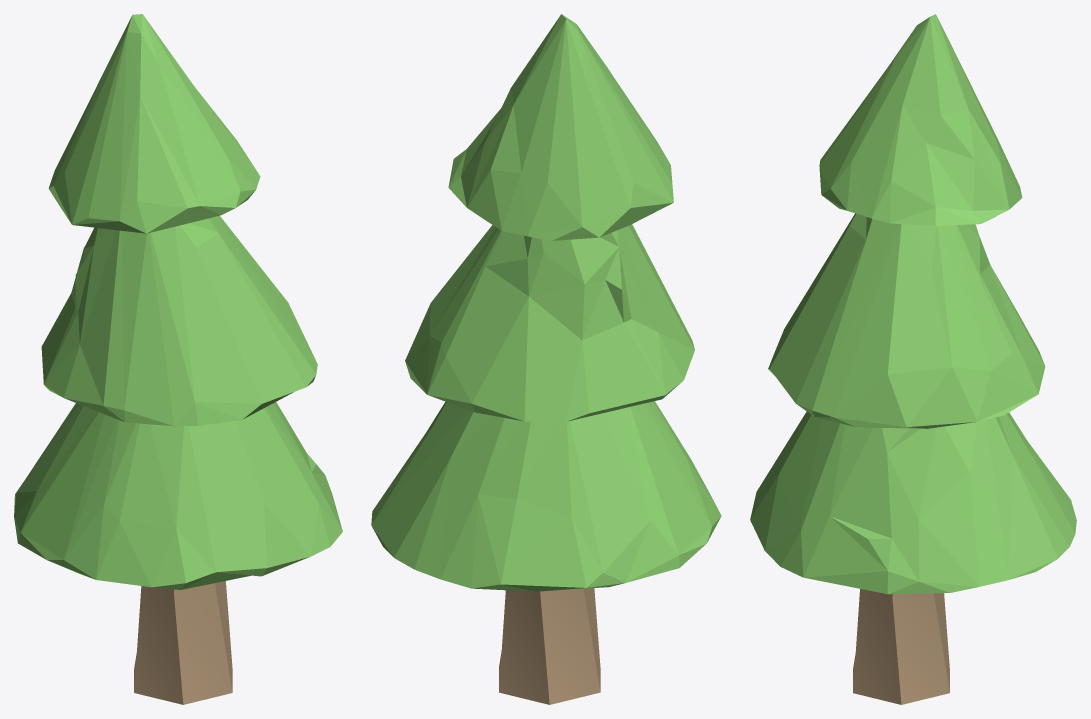
File: Tree.fbx
3 renders of one model, left to right at view 1: azimuth 30°, elevation 25°; view 2: azimuth 150°, elevation 25°; view 3: azimuth 270°, elevation 25°, orthographic. The views are drawn at different scales.
Visible parts, largest first — view 1: pCylinder12; view 2: pCylinder12; view 3: pCylinder12.
Boxes of the visible parts, x1=… form: pCylinder12: x1=14, y1=14, x2=342, y2=704; pCylinder12: x1=371, y1=14, x2=721, y2=704; pCylinder12: x1=750, y1=14, x2=1076, y2=704.
Bounding box in the file's own units: 7.92 × 17.45 × 7.92.
